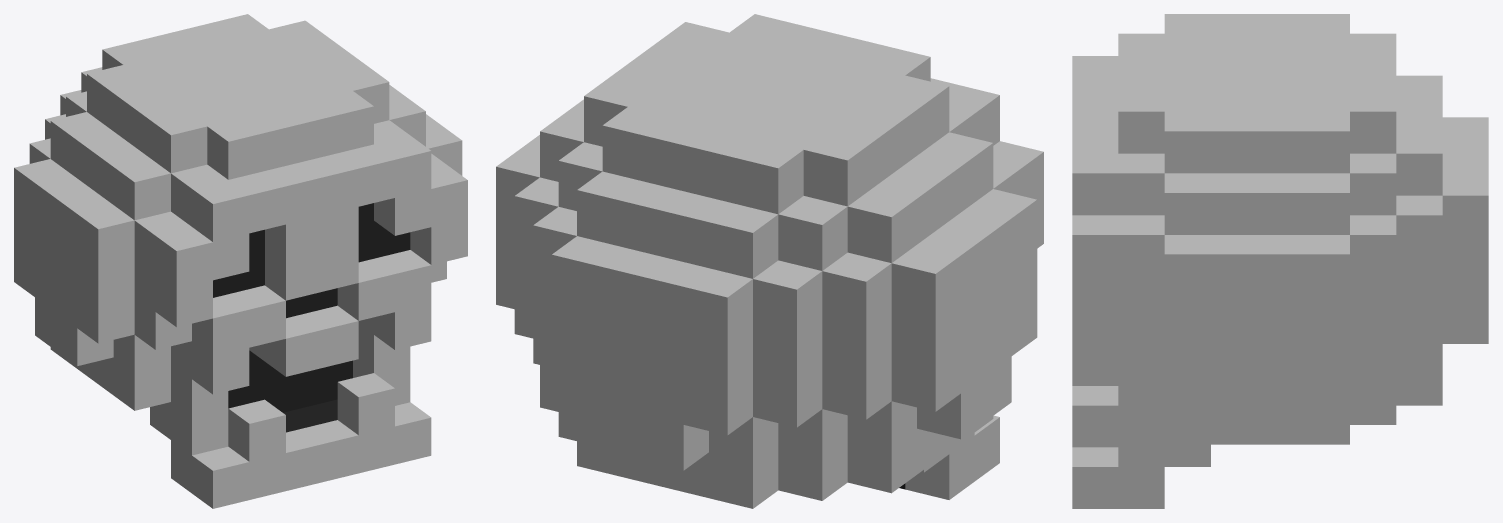
Rendered from Skull_1.glb.
3 views of the same model, side by side, from view 1: azimuth 30°, elevation 25°; view 2: azimuth 150°, elevation 25°; view 3: azimuth 270°, elevation 25° (orthographic). The views are drawn at different scales.
Parts seen in each view (by area): view 1: Untitled; view 2: Untitled; view 3: Untitled.
Boxes of the visible parts, <box> form: Untitled: <box>14,14,467,508</box>; Untitled: <box>496,14,1043,508</box>; Untitled: <box>1072,14,1488,508</box>.
Size of the model in its own units: 1 by 0.9 by 0.9.
Materials: 1 (1 with a texture image).
